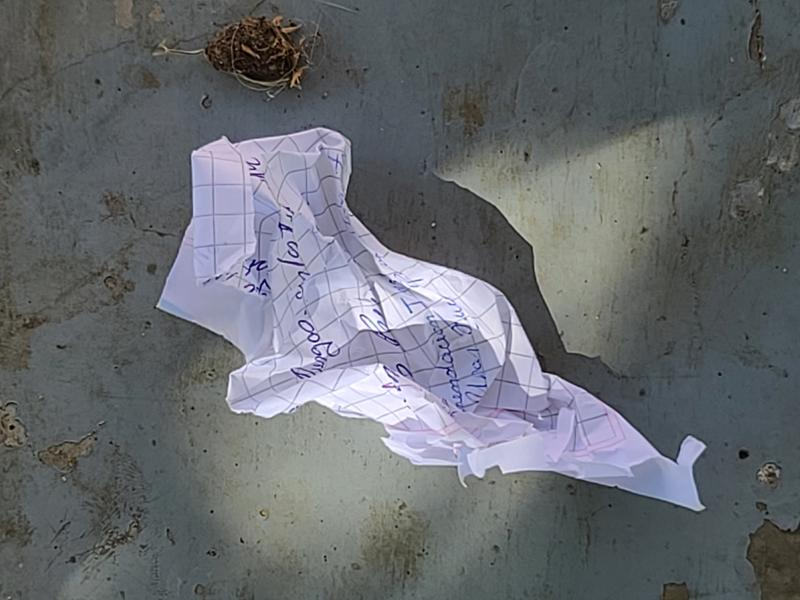papel: (156, 128, 704, 511)
